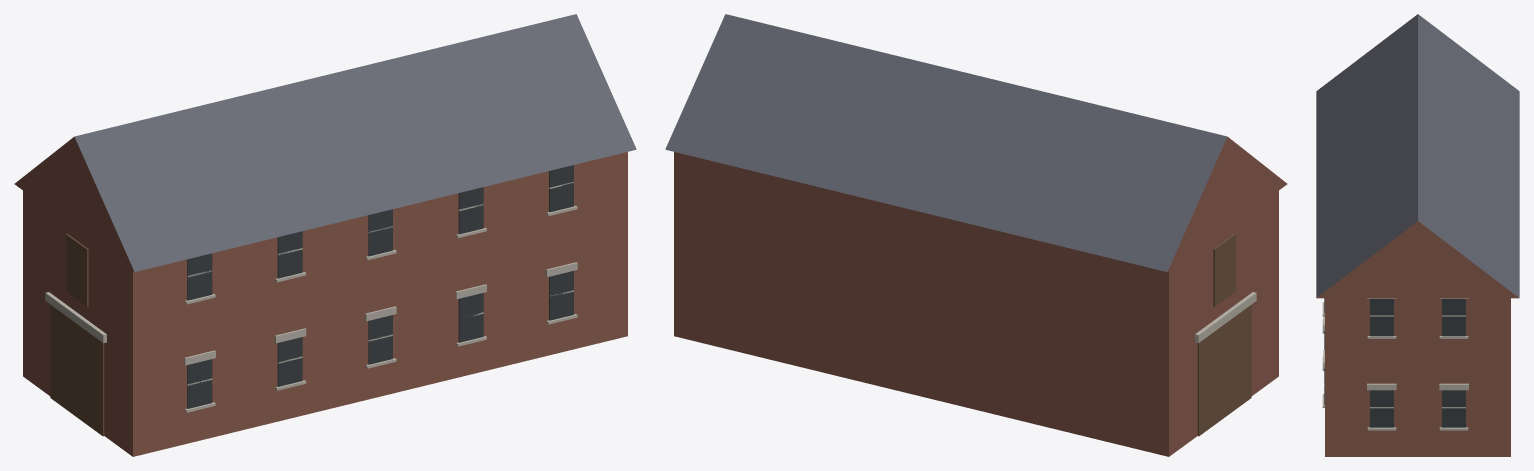
File: house_2001_prairie_coach_house__draft_1904.glb
The picture shows the model from 3 angles, left to right: view 1: azimuth 30°, elevation 25°; view 2: azimuth 150°, elevation 25°; view 3: azimuth 270°, elevation 25°; orthographic projection. The views are drawn at different scales.
Visible parts, largest first — view 1: house_2001_prairie_coach_house__draft_1904; view 2: house_2001_prairie_coach_house__draft_1904; view 3: house_2001_prairie_coach_house__draft_1904.
Part boxes in pixels (x1,y1,x2,y2): house_2001_prairie_coach_house__draft_1904: (14, 14, 636, 456); house_2001_prairie_coach_house__draft_1904: (665, 14, 1287, 456); house_2001_prairie_coach_house__draft_1904: (1316, 14, 1519, 456).
Bounding box in the file's own units: 16.49 × 8.82 × 6.85.
